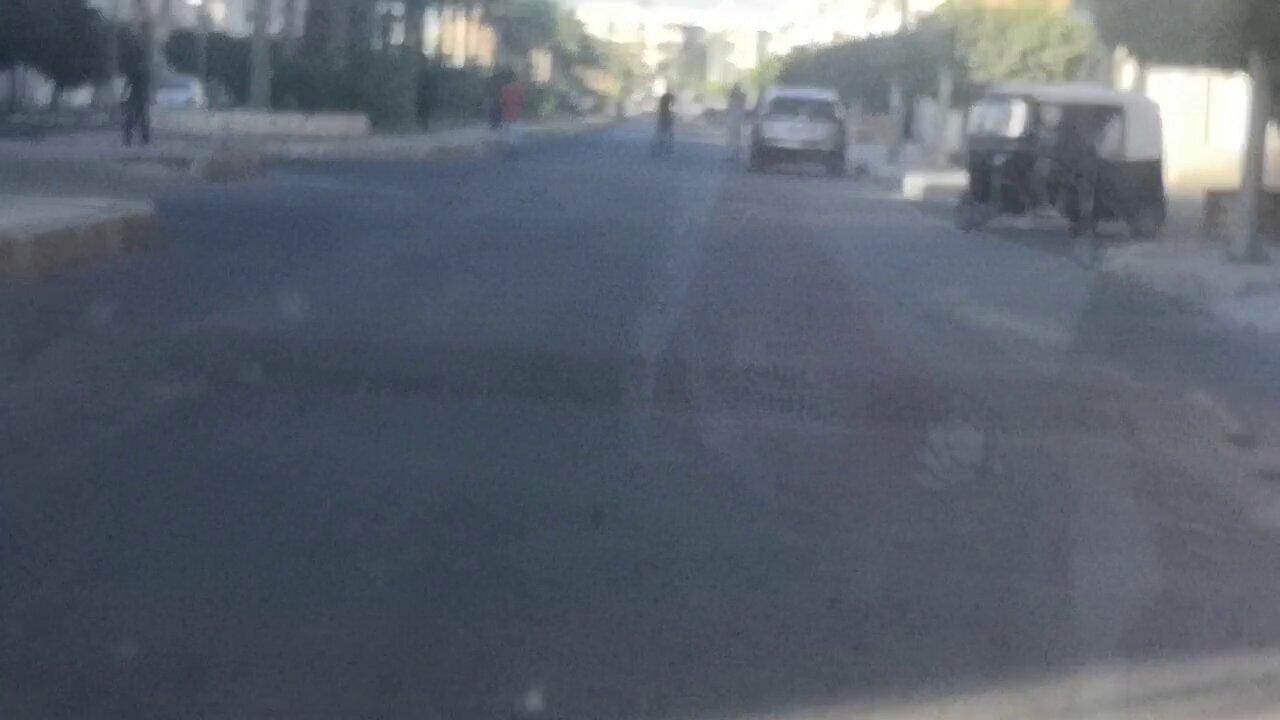Bump: (62, 313, 1160, 443)
